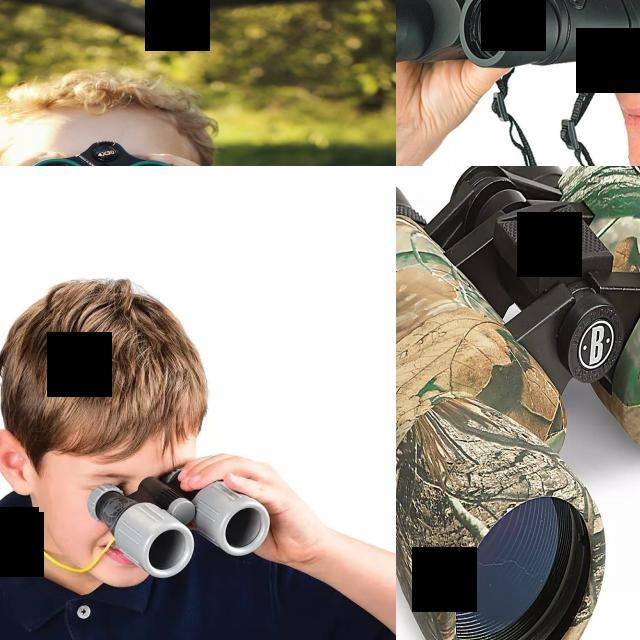Binocular: (80, 464, 282, 584)
